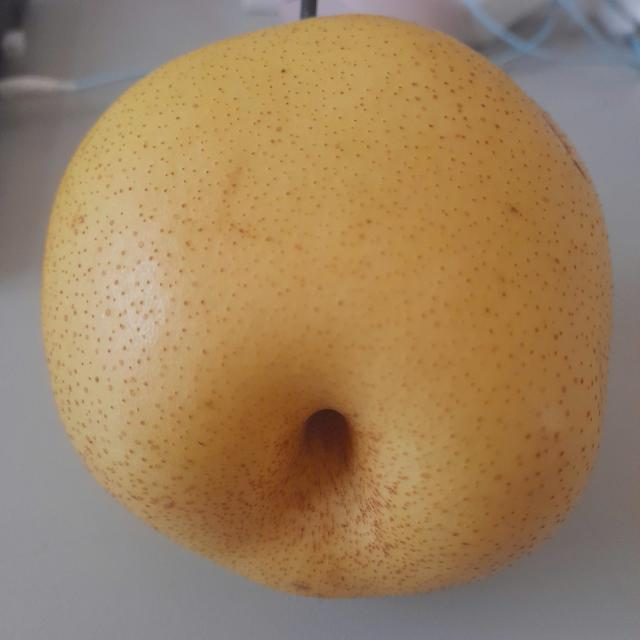Le: (36, 0, 619, 620)
